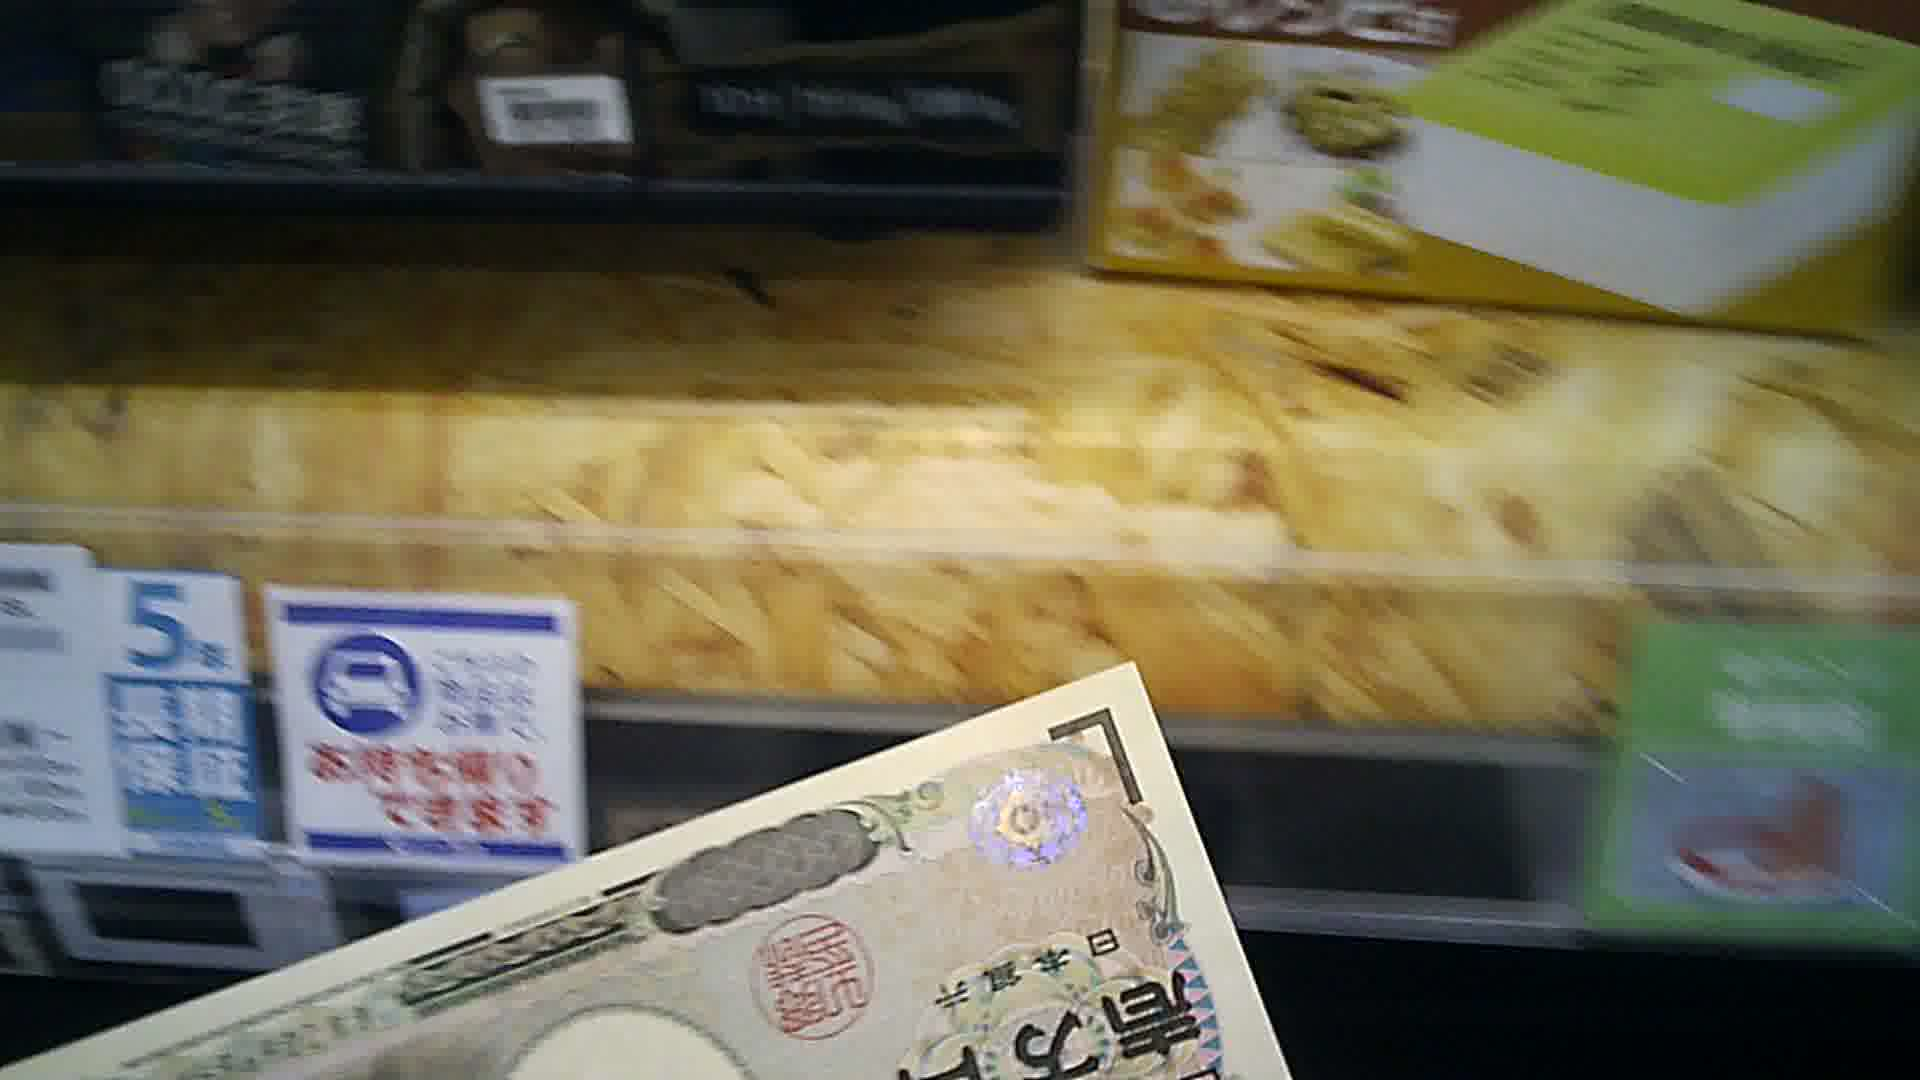10,000 Yen: (128, 665, 1240, 1079)
